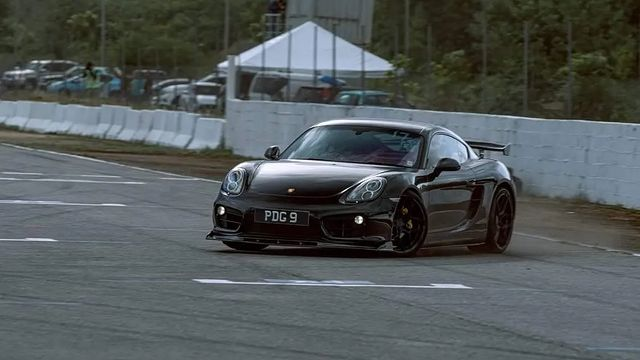License-Plate: (256, 208, 308, 222)
